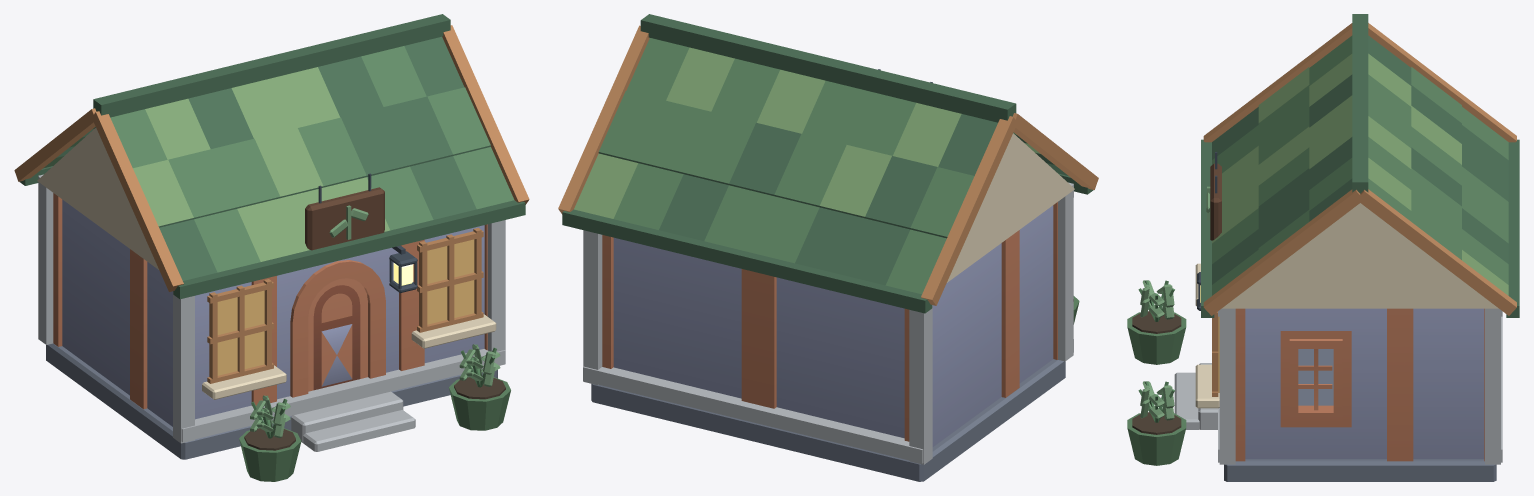
Rendered from clinic.glb.
The picture shows the model from 3 angles, left to right: view 1: azimuth 30°, elevation 25°; view 2: azimuth 150°, elevation 25°; view 3: azimuth 270°, elevation 25°; orthographic projection. The views are drawn at different scales.
Visible parts, largest first — view 1: clinic_建筑共用调色板.038, clinic_fantasy-town-kit 调色板; view 2: clinic_建筑共用调色板.038, clinic_fantasy-town-kit 调色板; view 3: clinic_建筑共用调色板.038, clinic_fantasy-town-kit 调色板.
Boxes of the visible parts, x1=… form: clinic_建筑共用调色板.038: x1=14, y1=14, x2=529, y2=481; clinic_fantasy-town-kit 调色板: x1=53, y1=193, x2=487, y2=426; clinic_建筑共用调色板.038: x1=558, y1=14, x2=1098, y2=481; clinic_fantasy-town-kit 调色板: x1=602, y1=202, x2=1057, y2=446; clinic_建筑共用调色板.038: x1=1127, y1=14, x2=1519, y2=481; clinic_fantasy-town-kit 调色板: x1=1235, y1=308, x2=1484, y2=461.
Bounding box in the file's own units: 4.59 × 3.83 × 4.43.
3 materials, 2 textured.
